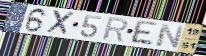5: (79, 14, 104, 39)
6: (24, 7, 48, 33)
E: (128, 20, 160, 47)
N: (155, 23, 185, 49)
R: (101, 16, 129, 43)
X: (44, 9, 76, 37)
